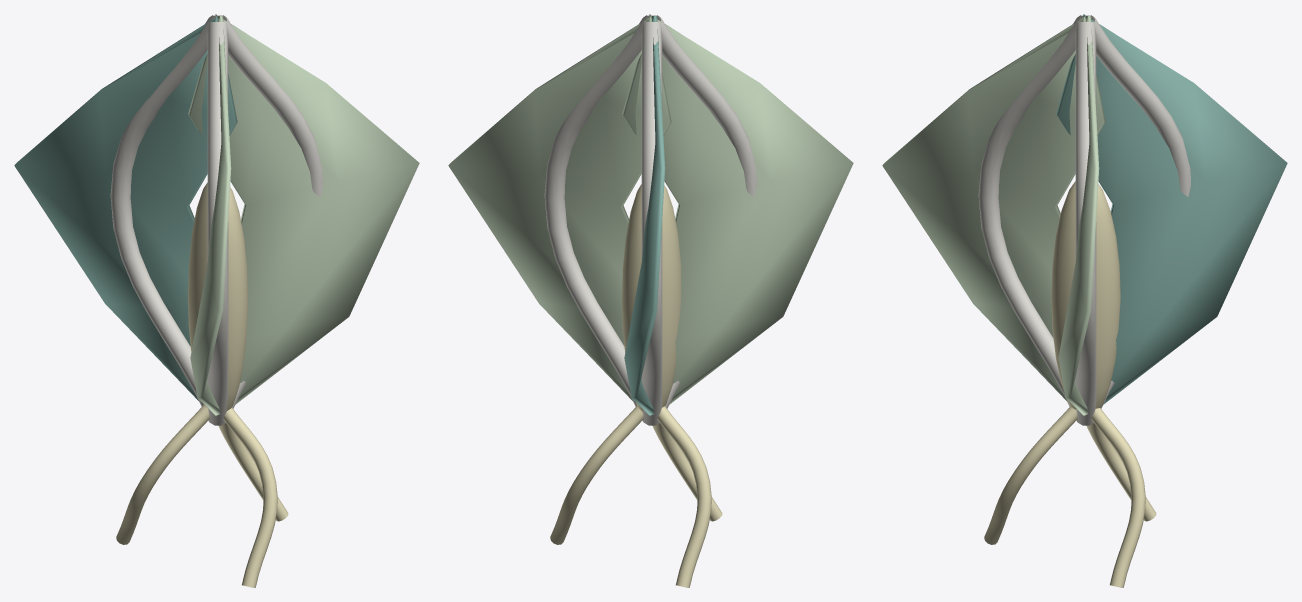
Rendered from bio_lantern_sail_06_near.glb.
3 views of the same model, side by side, from view 1: azimuth 30°, elevation 25°; view 2: azimuth 150°, elevation 25°; view 3: azimuth 270°, elevation 25° (orthographic).
Visible parts, largest first — view 1: Ribbed sensory membrane, Ribbed sensory membrane.001, Membrane leading seam.001, Ribbed sensory membrane.002, Buoyancy spindle, Membrane leading seam.002, Membrane leading seam, Trailing electroreceptor.002, Trailing electroreceptor.001, Trailing electroreceptor; view 2: Ribbed sensory membrane.002, Ribbed sensory membrane, Membrane leading seam, Ribbed sensory membrane.001, Buoyancy spindle, Membrane leading seam.001, Membrane leading seam.002, Trailing electroreceptor.001, Trailing electroreceptor, Trailing electroreceptor.002; view 3: Ribbed sensory membrane.001, Ribbed sensory membrane.002, Membrane leading seam.002, Buoyancy spindle, Ribbed sensory membrane, Membrane leading seam, Membrane leading seam.001, Trailing electroreceptor, Trailing electroreceptor.002, Trailing electroreceptor.001.
Part boxes in pixels (x1=…): Ribbed sensory membrane: x1=188, y1=14, x2=419, y2=404; Ribbed sensory membrane.001: x1=14, y1=16, x2=237, y2=400; Membrane leading seam.001: x1=110, y1=15, x2=215, y2=421; Ribbed sensory membrane.002: x1=190, y1=16, x2=231, y2=415; Buoyancy spindle: x1=188, y1=182, x2=248, y2=410; Membrane leading seam.002: x1=207, y1=22, x2=228, y2=425; Membrane leading seam: x1=213, y1=15, x2=322, y2=408; Trailing electroreceptor.002: x1=223, y1=407, x2=277, y2=587; Trailing electroreceptor.001: x1=116, y1=405, x2=209, y2=544; Trailing electroreceptor: x1=218, y1=423, x2=288, y2=521; Ribbed sensory membrane.002: x1=622, y1=14, x2=853, y2=404; Ribbed sensory membrane: x1=448, y1=16, x2=671, y2=400; Membrane leading seam: x1=544, y1=15, x2=649, y2=421; Ribbed sensory membrane.001: x1=624, y1=16, x2=665, y2=415; Buoyancy spindle: x1=622, y1=184, x2=681, y2=412; Membrane leading seam.001: x1=641, y1=22, x2=662, y2=425; Membrane leading seam.002: x1=647, y1=15, x2=756, y2=408; Trailing electroreceptor.001: x1=657, y1=406, x2=711, y2=587; Trailing electroreceptor: x1=550, y1=406, x2=643, y2=544; Trailing electroreceptor.002: x1=652, y1=423, x2=722, y2=521; Ribbed sensory membrane.001: x1=1056, y1=14, x2=1287, y2=404; Ribbed sensory membrane.002: x1=882, y1=16, x2=1105, y2=400; Membrane leading seam.002: x1=978, y1=15, x2=1083, y2=421; Buoyancy spindle: x1=1051, y1=181, x2=1120, y2=409; Ribbed sensory membrane: x1=1058, y1=16, x2=1099, y2=415; Membrane leading seam: x1=1075, y1=22, x2=1096, y2=425; Membrane leading seam.001: x1=1081, y1=15, x2=1190, y2=408; Trailing electroreceptor: x1=1091, y1=408, x2=1145, y2=587; Trailing electroreceptor.002: x1=984, y1=406, x2=1077, y2=544; Trailing electroreceptor.001: x1=1086, y1=423, x2=1156, y2=521.
Bounding box in the file's own units: 1.73 × 2.89 × 1.98.
